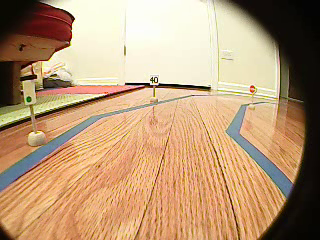Green Traffic Light: (21, 76, 37, 103)
Speed Limit 40: (149, 74, 160, 86)
Stop Sign: (249, 84, 257, 94)
